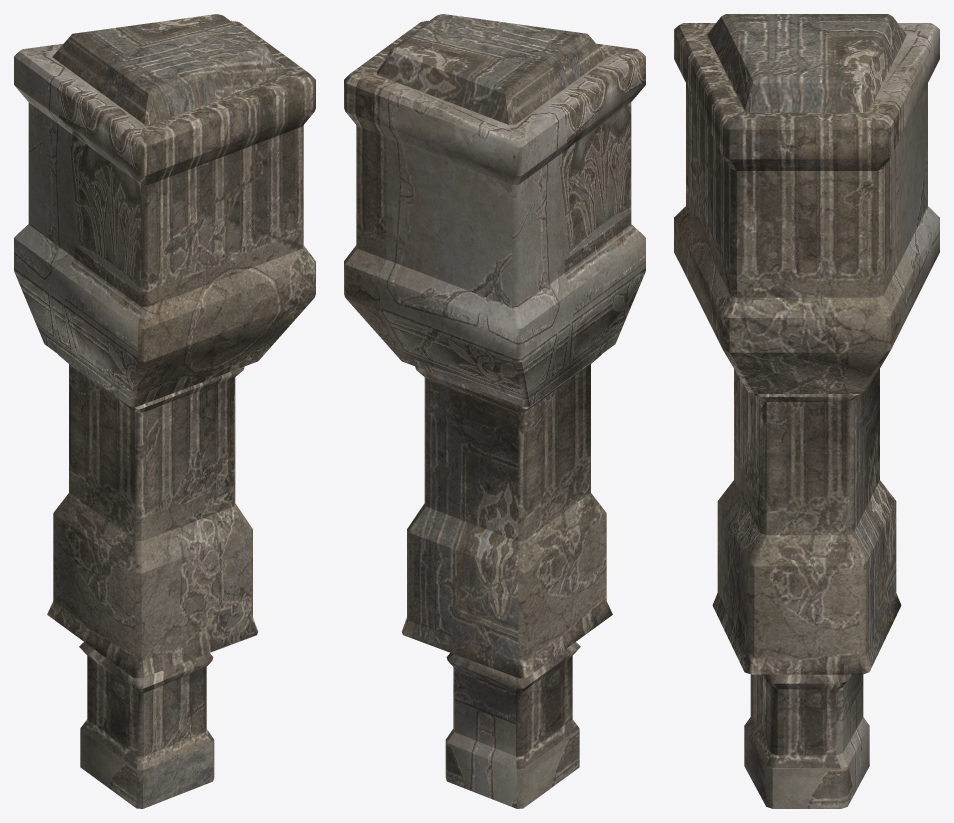
Rendered from bg_lut_lutomb_fence03_sm_old.FBX.
The picture shows the model from 3 angles, left to right: view 1: azimuth 30°, elevation 25°; view 2: azimuth 150°, elevation 25°; view 3: azimuth 270°, elevation 25°; orthographic projection. The views are drawn at different scales.
Visible parts, largest first — view 1: bg_lut_lutomb_fence03_sm_old; view 2: bg_lut_lutomb_fence03_sm_old; view 3: bg_lut_lutomb_fence03_sm_old.
Boxes of the visible parts, left/top/right/bottom form: bg_lut_lutomb_fence03_sm_old: left=14, top=14, right=315, bottom=808; bg_lut_lutomb_fence03_sm_old: left=344, top=14, right=645, bottom=808; bg_lut_lutomb_fence03_sm_old: left=674, top=14, right=939, bottom=808.
Size of the model in its own units: 108 by 368 by 118.
